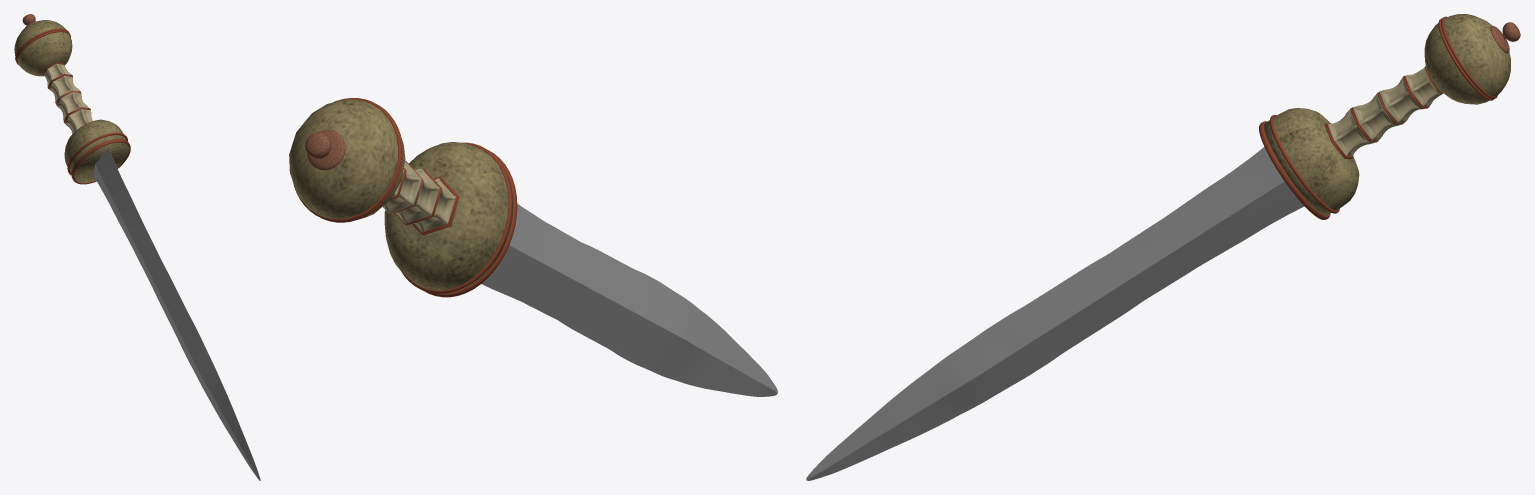
File: espada_romana.glb
3 renders of one model, left to right at view 1: azimuth 30°, elevation 25°; view 2: azimuth 150°, elevation 25°; view 3: azimuth 270°, elevation 25°, orthographic. The views are drawn at different scales.
Visible parts, largest first — view 1: Blade_0, Guard_2, Handle_4, Copper Rings_3; view 2: Blade_0, Guard_2, Copper Rings_3, Handle_4, Rivet_1; view 3: Blade_0, Guard_2, Handle_4, Copper Rings_3.
Boxes of the visible parts, left/top/right/bottom form: Blade_0: left=94, top=148, right=260, bottom=480; Guard_2: left=14, top=20, right=128, bottom=182; Handle_4: left=44, top=64, right=92, bottom=133; Copper Rings_3: left=15, top=28, right=130, bottom=184; Blade_0: left=481, top=204, right=777, bottom=396; Guard_2: left=289, top=99, right=512, bottom=290; Copper Rings_3: left=293, top=98, right=517, bottom=297; Handle_4: left=382, top=161, right=455, bottom=232; Rivet_1: left=305, top=129, right=345, bottom=170; Blade_0: left=806, top=147, right=1304, bottom=480; Guard_2: left=1264, top=14, right=1510, bottom=215; Handle_4: left=1328, top=67, right=1443, bottom=156; Copper Rings_3: left=1259, top=16, right=1497, bottom=219.
Size of the model in its own units: 1.22 by 6.28 by 8.79.
5 materials, 4 textured.
